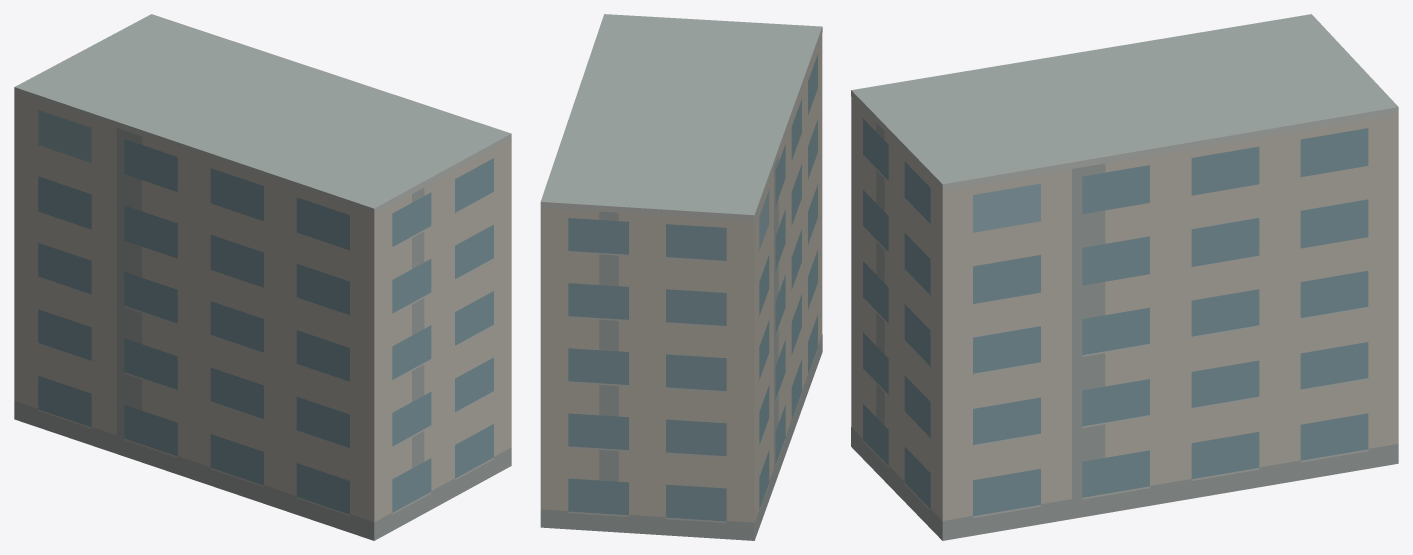
Rendered from survey-upis-32884171.glb.
The picture shows the model from 3 angles, left to right: view 1: azimuth 30°, elevation 25°; view 2: azimuth 150°, elevation 25°; view 3: azimuth 270°, elevation 25°; orthographic projection. The views are drawn at different scales.
Parts seen in each view (by area): view 1: survey-upis-32884171.tmp; view 2: survey-upis-32884171.tmp; view 3: survey-upis-32884171.tmp.
Boxes of the visible parts, x1,y1,x2,y2 form: survey-upis-32884171.tmp: (14, 14, 511, 540); survey-upis-32884171.tmp: (540, 14, 822, 540); survey-upis-32884171.tmp: (851, 14, 1398, 540).
Bounding box in the file's own units: 13.59 × 13.25 × 18.45.
